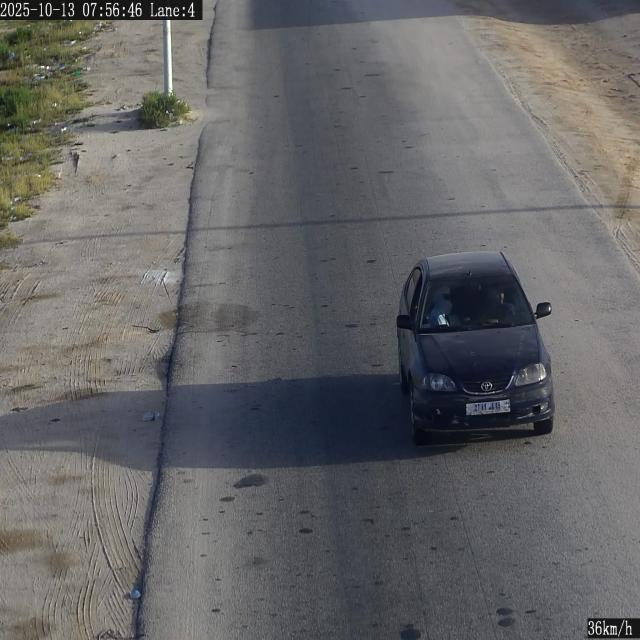BUS: (467, 400, 510, 415)
